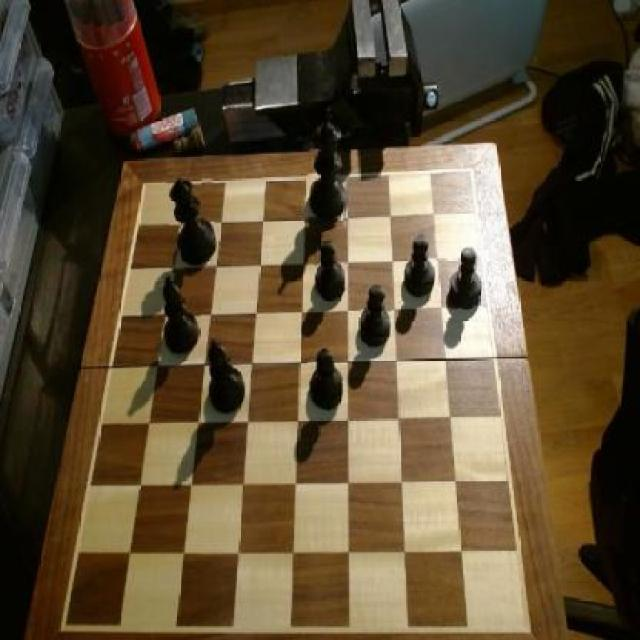bishop: (156, 274, 202, 358), (203, 338, 245, 418)
black-bishop: (306, 107, 352, 226)
black-knight: (446, 245, 482, 316), (308, 346, 345, 414), (403, 235, 438, 300), (360, 284, 394, 350), (315, 237, 348, 301)
black-pawn: (168, 175, 215, 270)
